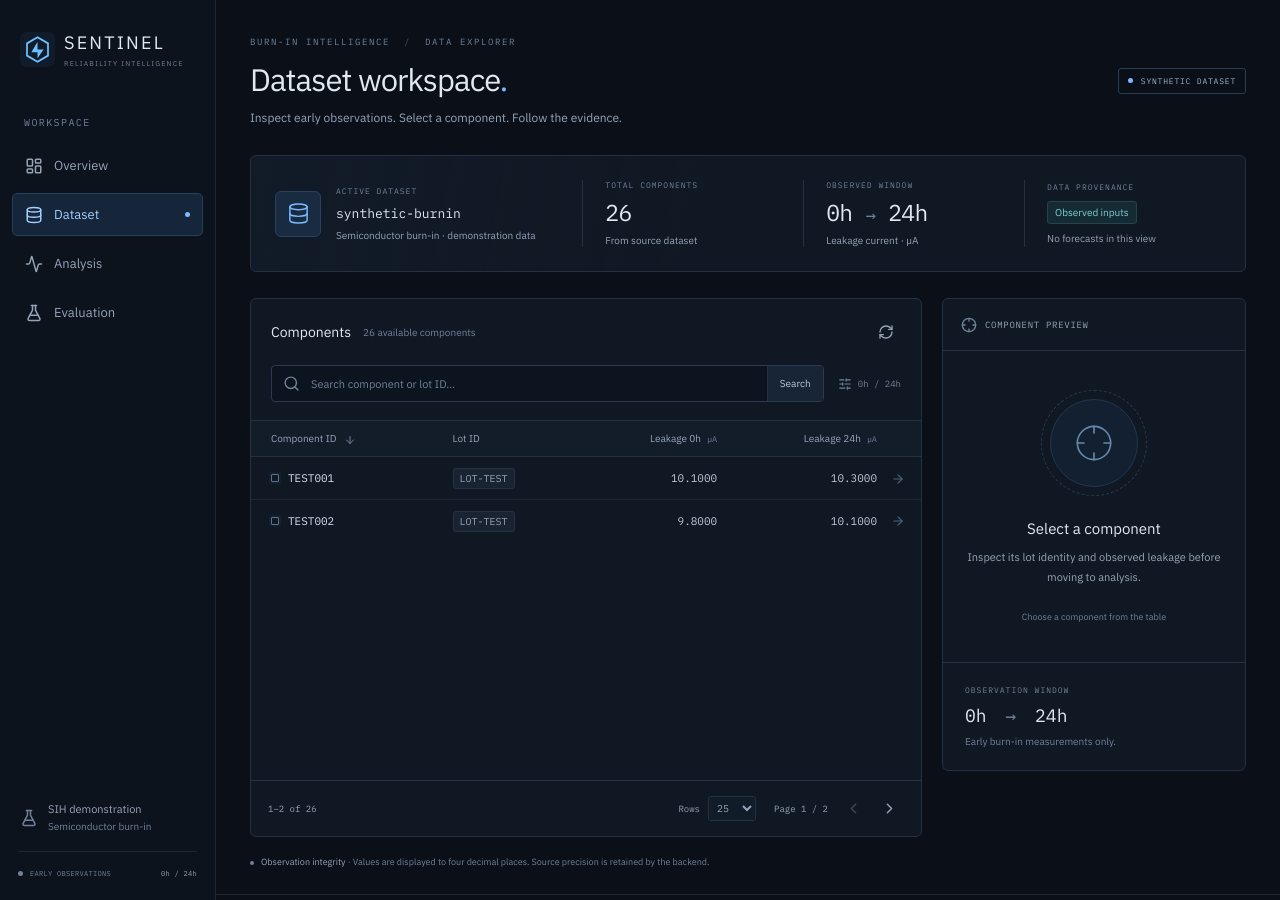
Test case: Dataset workspace › ignores a late detail response after a newer selection
The image size is (1280, 900).
(page scrolled)
Step 1. Click the button "TEST001" → click(303, 478), box [271, 463, 334, 493]
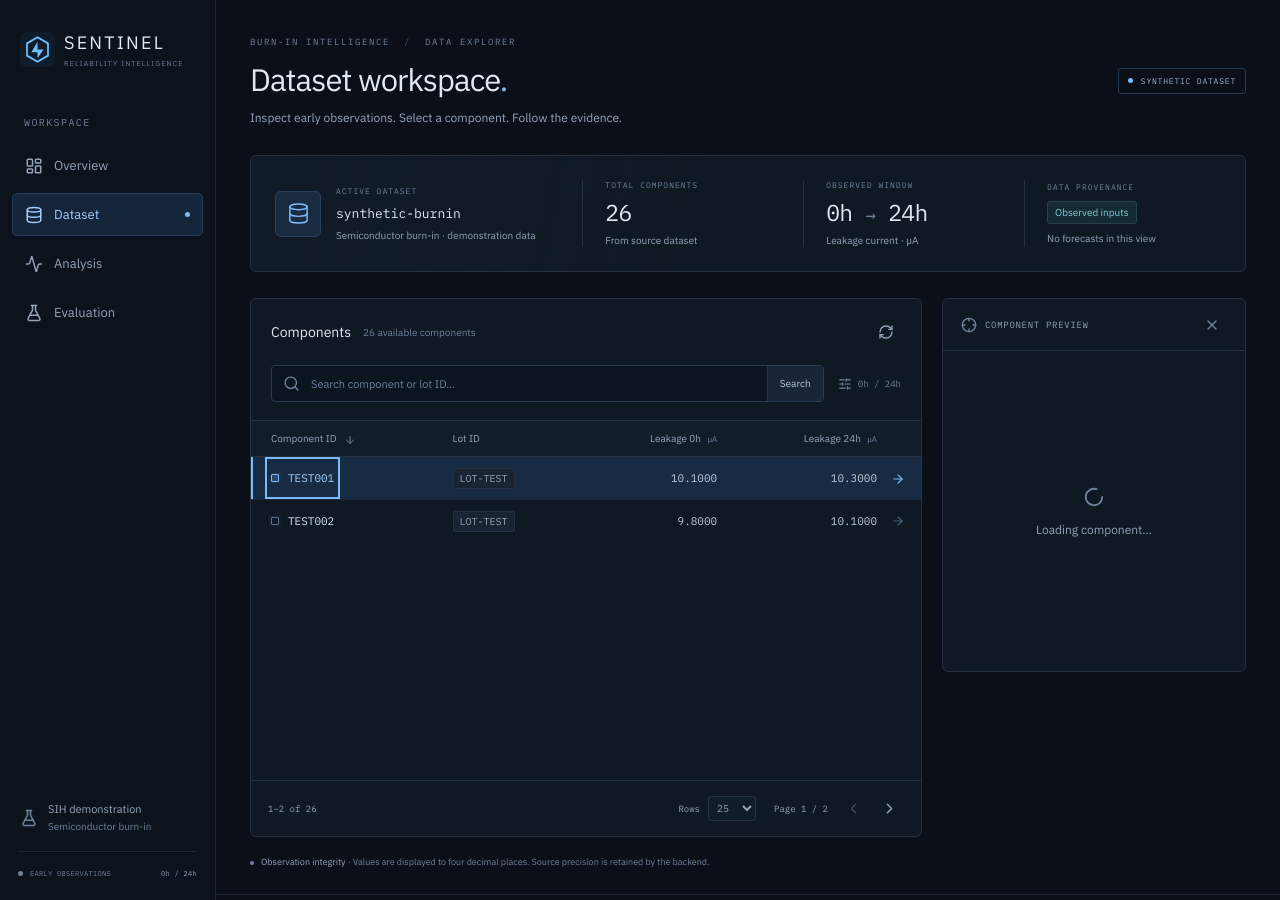
Step 2. Click the button "TEST002" → click(303, 521), box [271, 506, 334, 536]
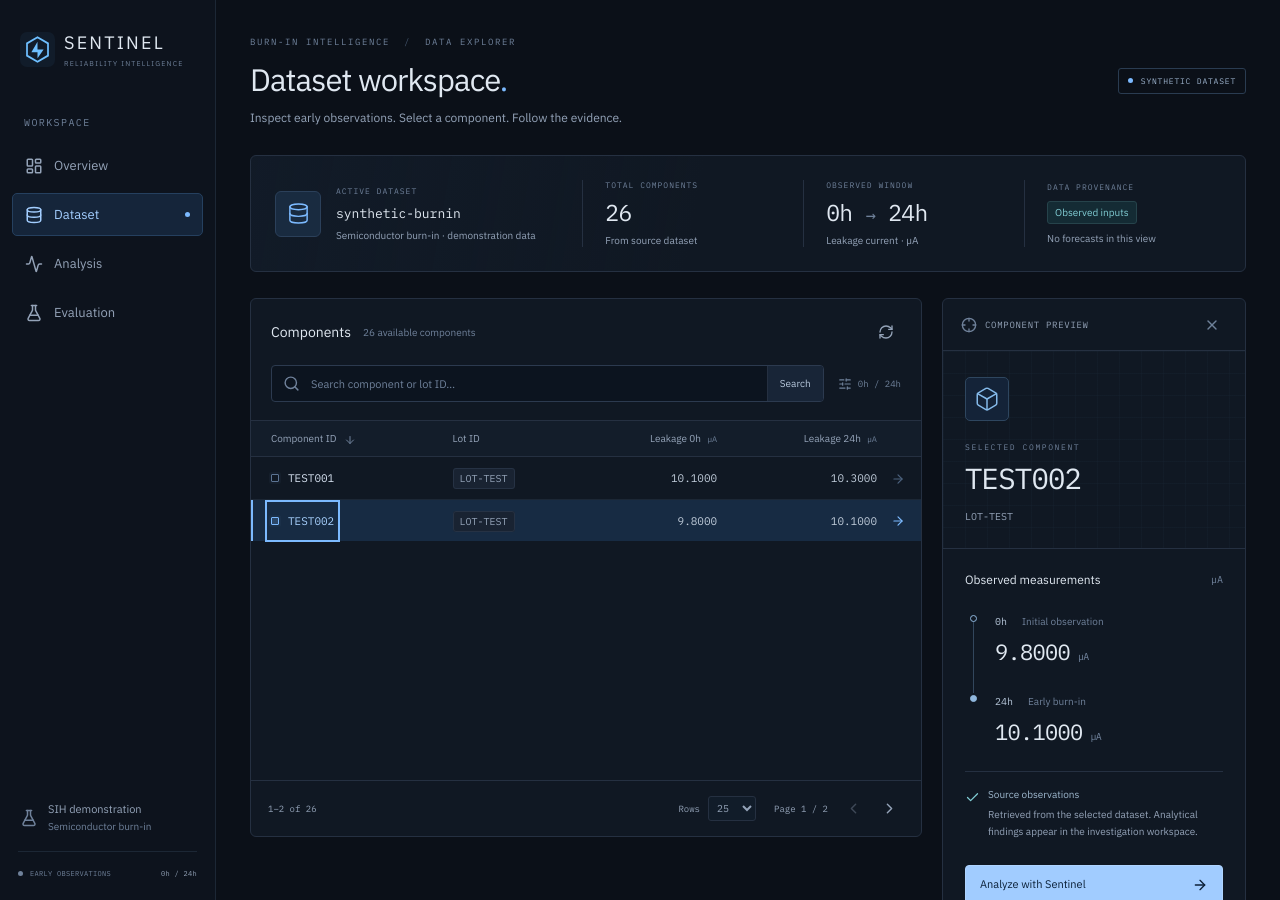
Check: the heading "TEST002" is shown, box [965, 460, 1081, 498]
